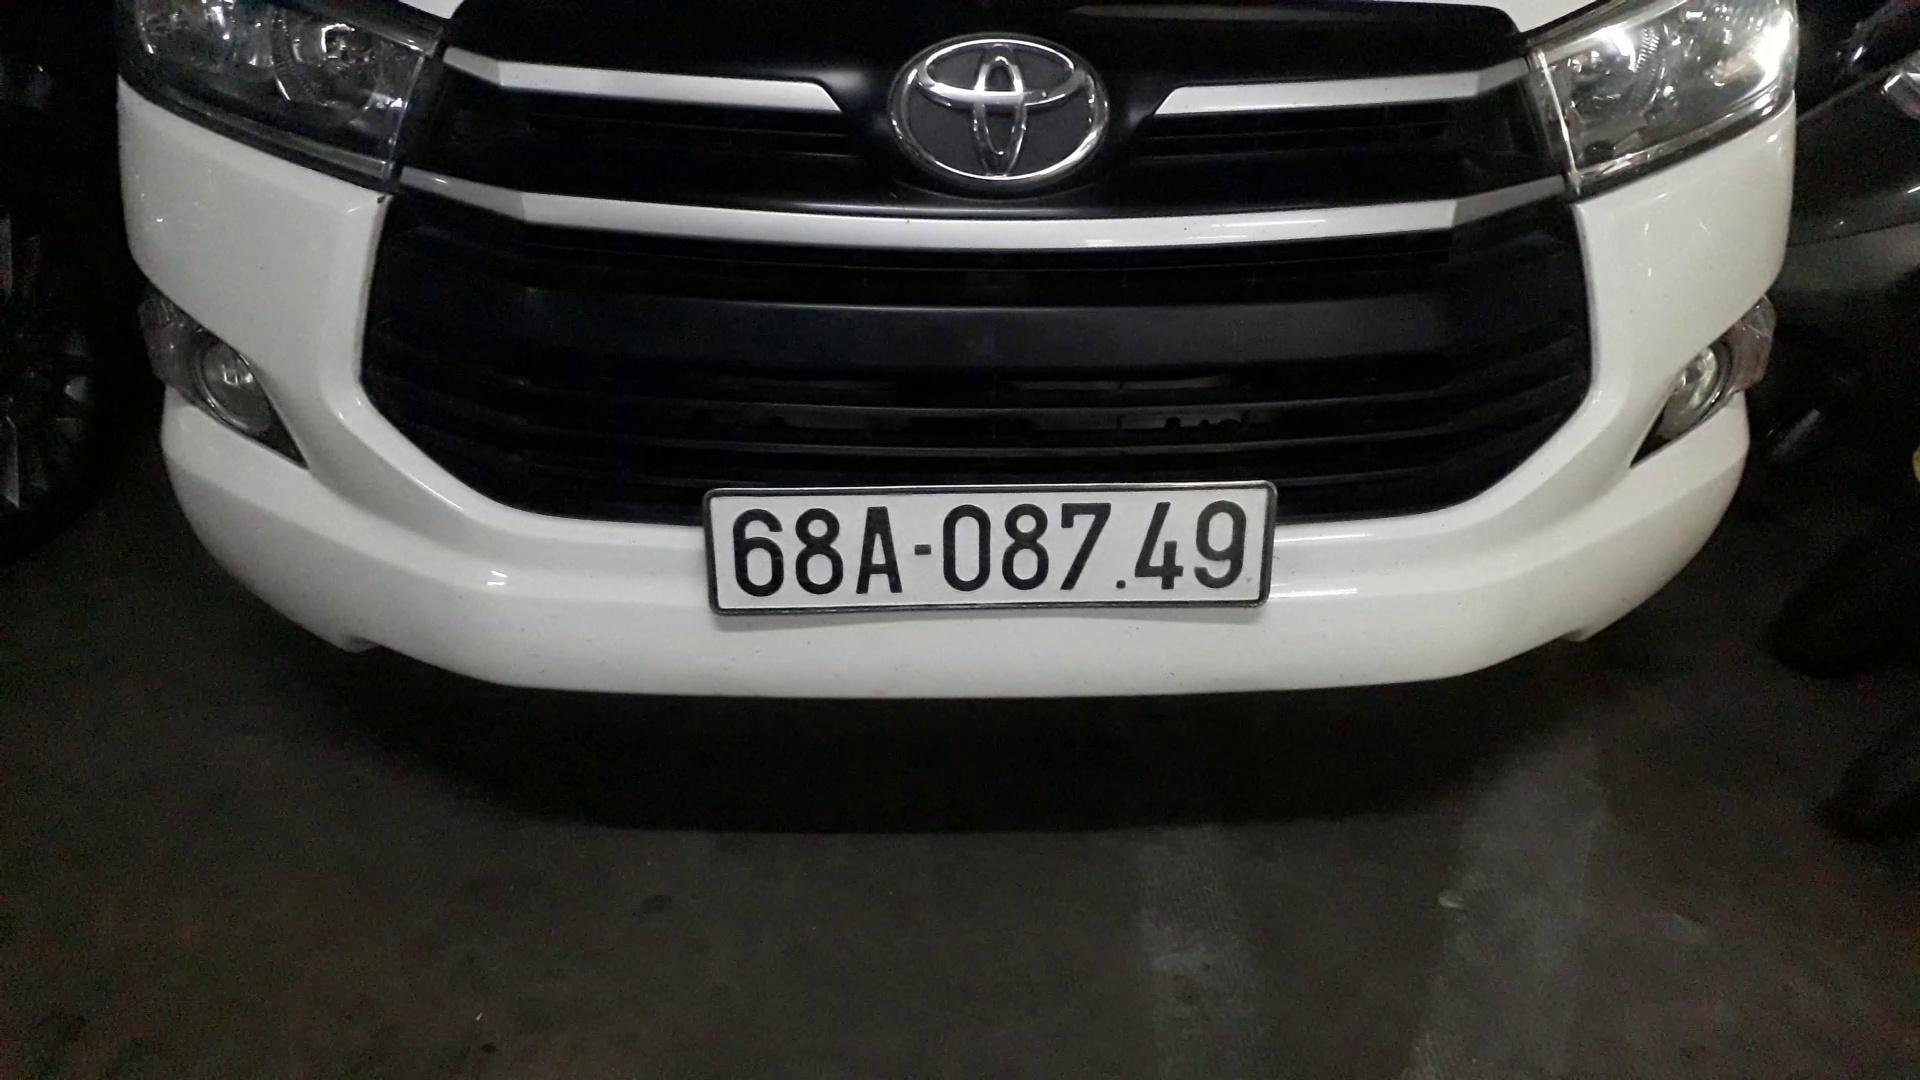numplate: (703, 487, 1277, 617)
